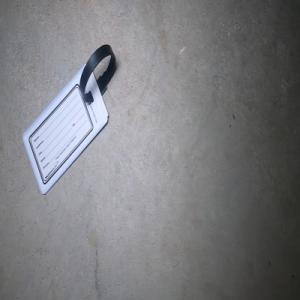LuggageTag: (21, 42, 116, 196)
